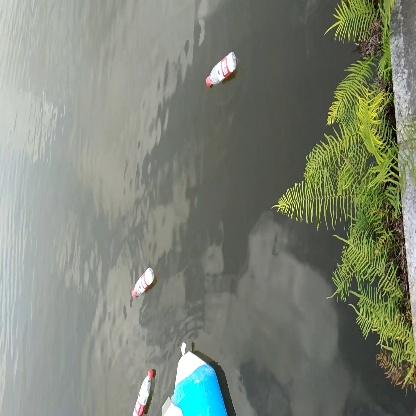bottle: (199, 50, 237, 90), (129, 268, 159, 302)
